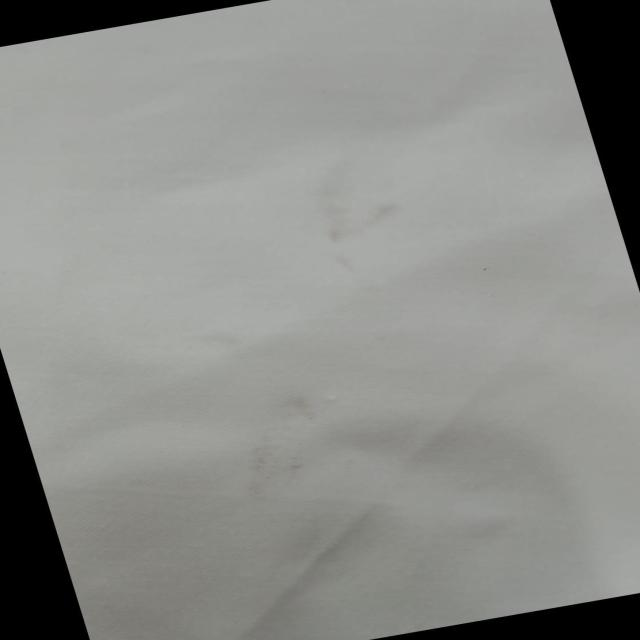stain: (202, 368, 443, 591), (276, 148, 412, 270)
